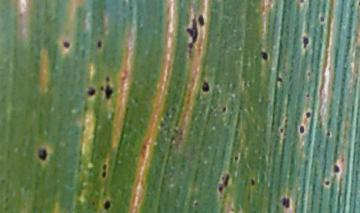tarspot: (186, 14, 199, 51), (216, 172, 231, 193), (35, 146, 49, 162), (199, 79, 212, 93), (60, 37, 72, 51), (280, 195, 291, 209), (104, 84, 113, 101), (301, 33, 310, 50), (86, 85, 97, 98), (107, 109, 118, 122), (102, 198, 112, 212), (297, 122, 306, 137), (196, 14, 207, 26), (258, 50, 269, 61), (332, 163, 342, 175), (322, 177, 331, 188), (304, 109, 313, 120), (325, 127, 332, 140), (100, 170, 108, 180), (248, 177, 256, 187), (318, 15, 326, 24), (275, 74, 283, 83), (158, 120, 166, 129), (96, 38, 103, 48), (221, 104, 228, 114), (233, 154, 241, 162), (191, 199, 199, 207), (278, 126, 285, 135), (101, 162, 108, 170), (164, 110, 170, 119), (306, 69, 311, 79), (304, 92, 311, 98), (170, 106, 177, 112), (105, 75, 110, 83), (99, 84, 104, 92), (298, 1, 305, 4)
